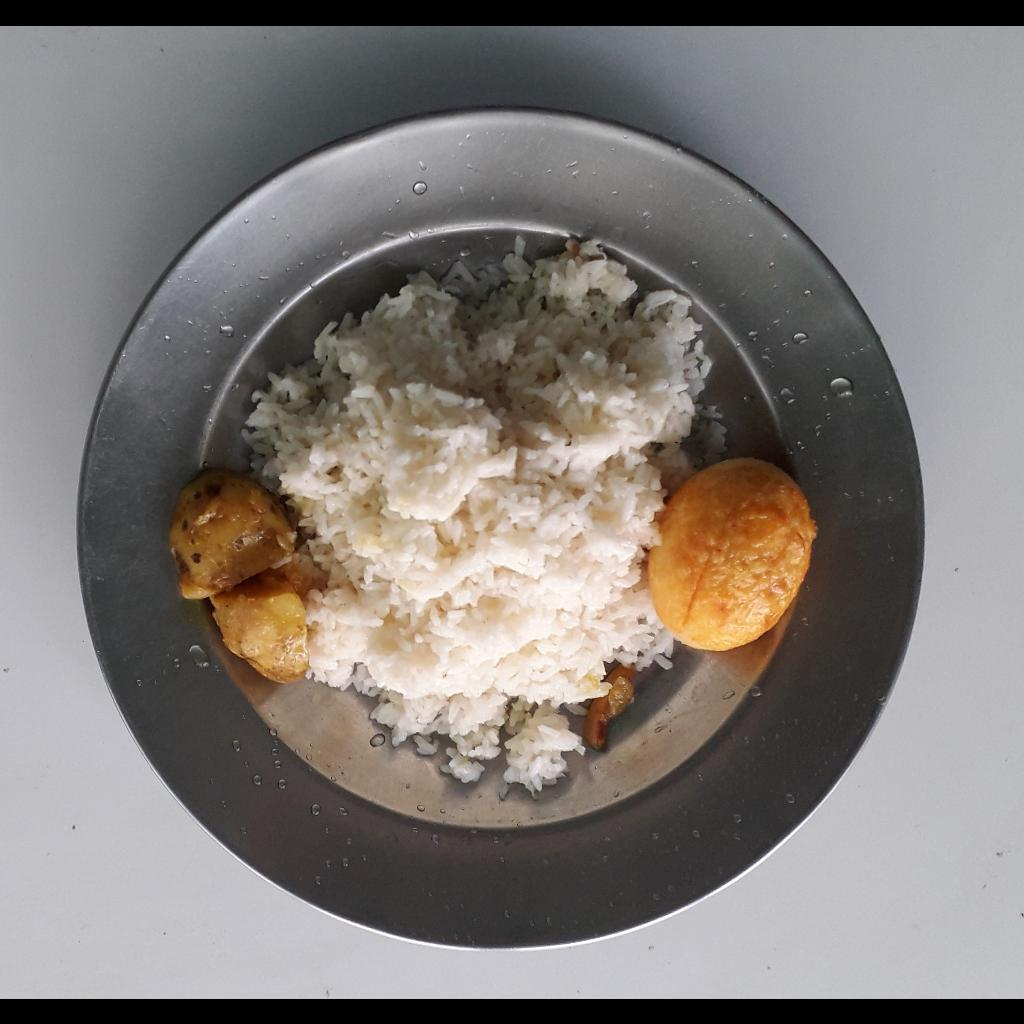egg-boiled: (650, 453, 816, 651)
potato: (166, 460, 307, 680)
rice: (242, 224, 728, 798)
